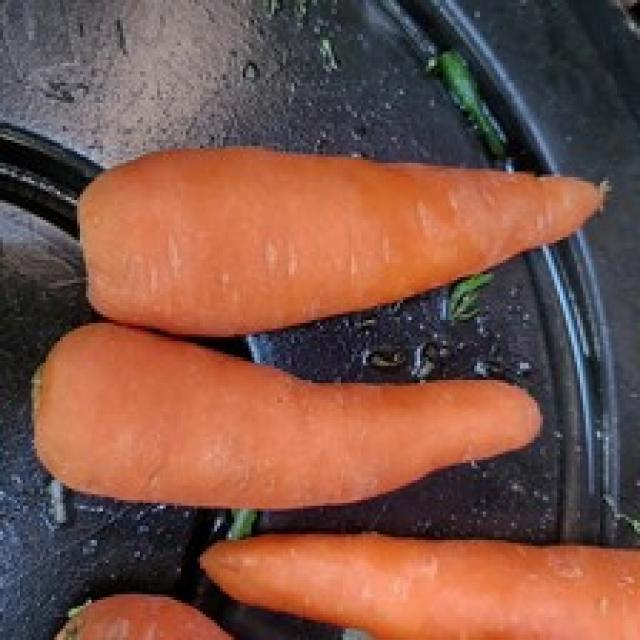carrot: (77, 143, 614, 331), (32, 324, 548, 510), (201, 533, 640, 637)
